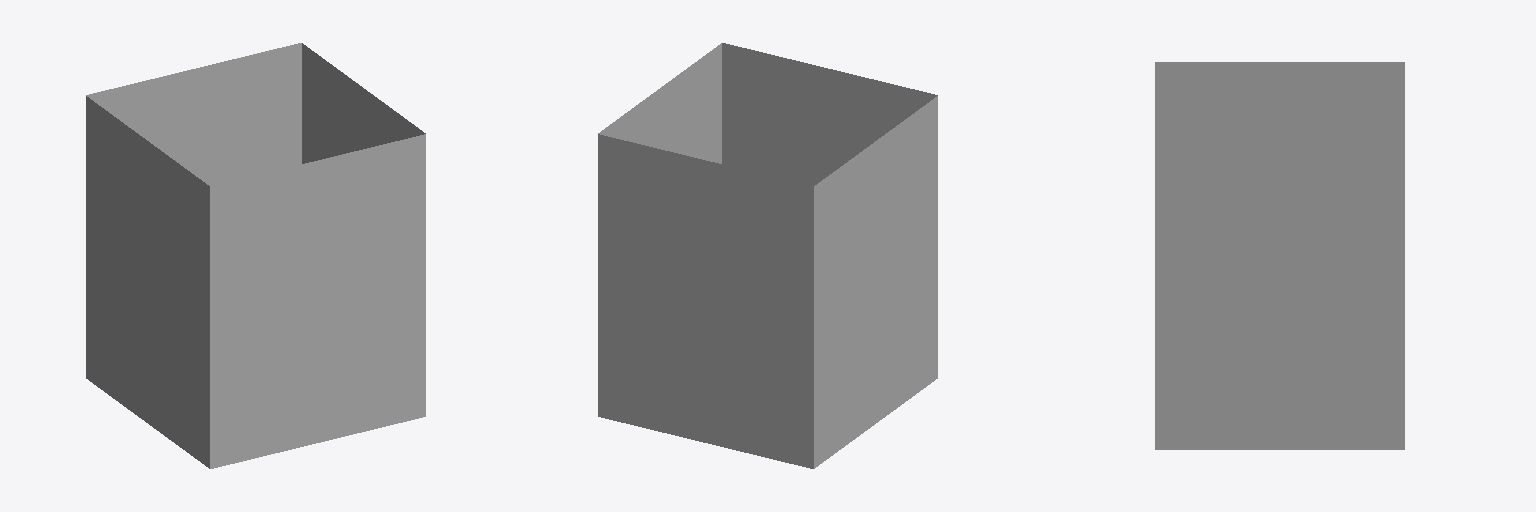
The model's file is mylandscaping_columna_oc_b.obj.
The picture shows the model from 3 angles: view 1: azimuth 30°, elevation 25°; view 2: azimuth 150°, elevation 25°; view 3: azimuth 270°, elevation 25°; orthographic projection.
Visible parts, largest first — view 1: Adaridge_C_OC_B_Plane.004; view 2: Adaridge_C_OC_B_Plane.004; view 3: Adaridge_C_OC_B_Plane.004.
Part boxes in pixels (bbox=[...]): Adaridge_C_OC_B_Plane.004: bbox=[86, 43, 425, 468]; Adaridge_C_OC_B_Plane.004: bbox=[598, 43, 937, 468]; Adaridge_C_OC_B_Plane.004: bbox=[1155, 62, 1404, 449].
Size of the model in its own units: 0.8 by 1 by 0.8.